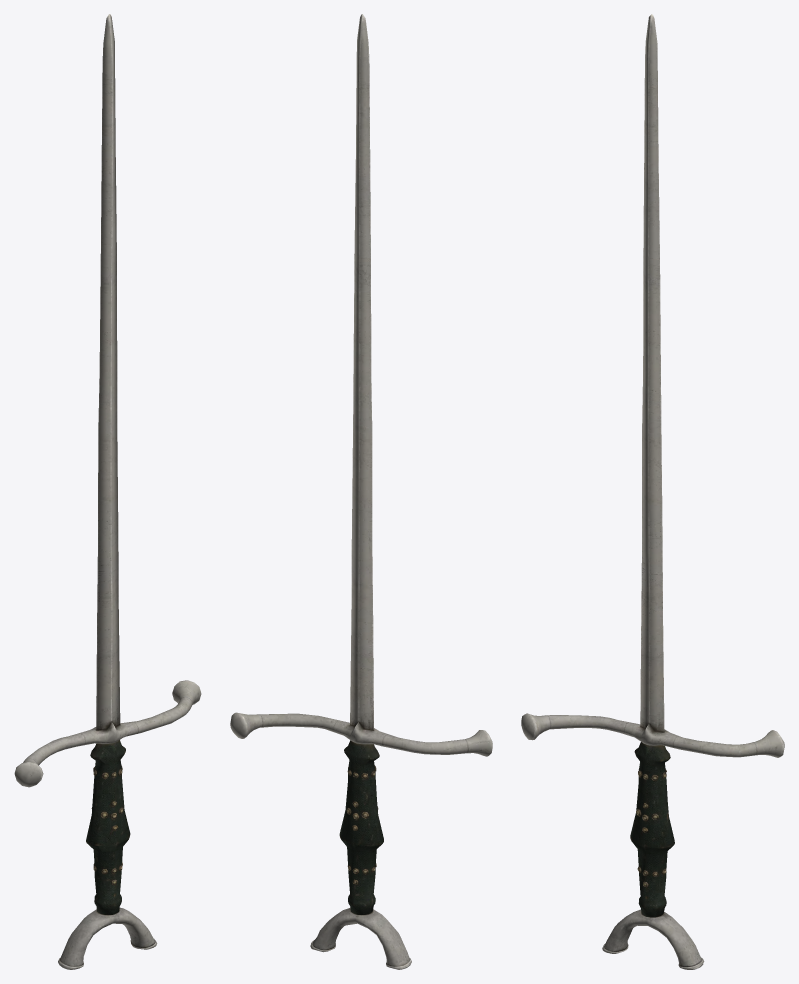
File: estoc.glb
3 renders of one model, left to right at view 1: azimuth 30°, elevation 25°; view 2: azimuth 150°, elevation 25°; view 3: azimuth 330°, elevation 25°, orthographic.
Parts seen in each view (by area): view 1: antique_estoc; view 2: antique_estoc; view 3: antique_estoc.
Boxes of the visible parts, <box> form: antique_estoc: <box>14,14,201,969</box>; antique_estoc: <box>230,14,492,969</box>; antique_estoc: <box>521,14,784,969</box>.
Bounding box in the file's own units: 0.3715 × 1.49 × 0.1491.
Materials: 1 (1 with a texture image).
